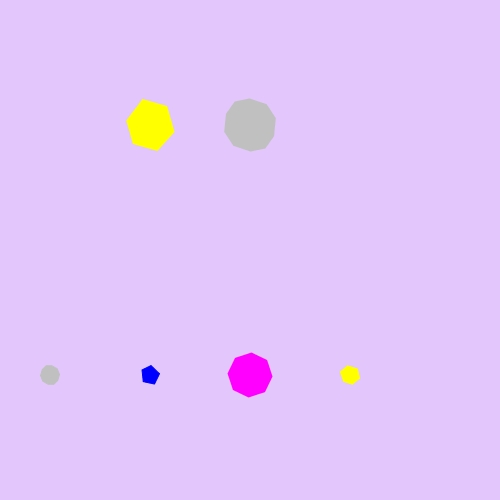decagon: (219, 97, 282, 154), (35, 361, 65, 389)
hexagon: (120, 100, 180, 150), (335, 362, 365, 388)
octagon: (224, 349, 277, 402)
pentagon: (136, 361, 164, 389)
